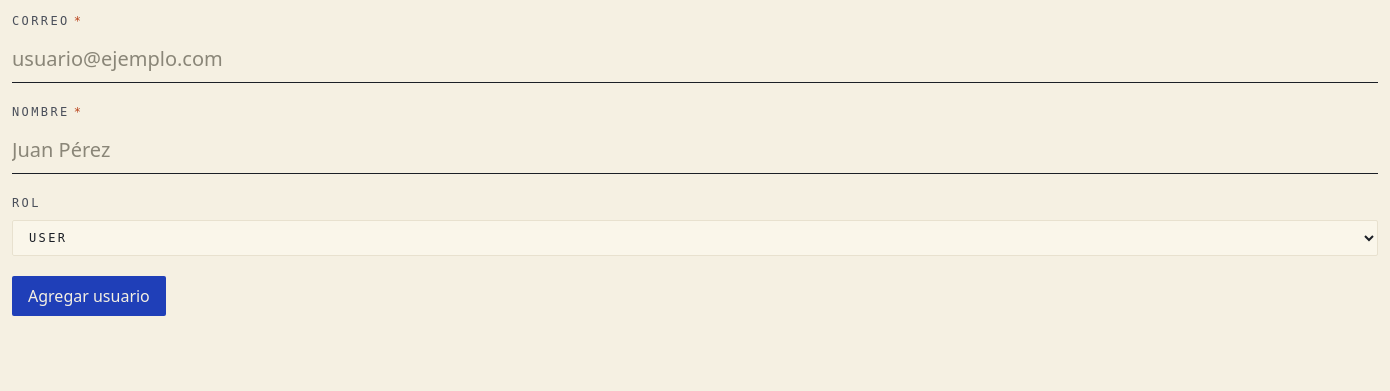
Scenario: UserForm › submitting with empty email + empty name surfaces both field errors
Click the button "Agregar usuario": (89, 296) [12,276,166,316]
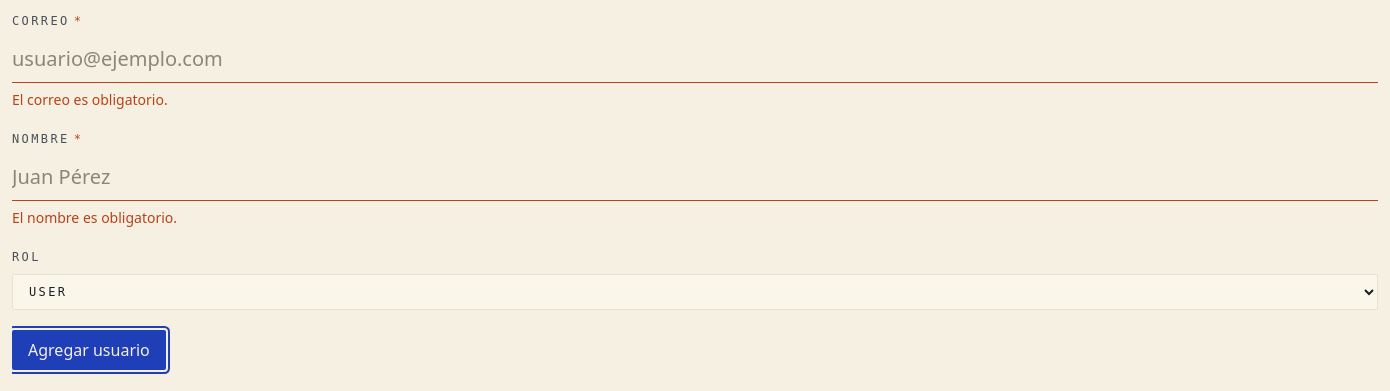
Expected: the text "El correo es obligatorio." is shown, [12,90,168,109]
Expected: the text "El nombre es obligatorio." is shown, [12,208,177,227]
